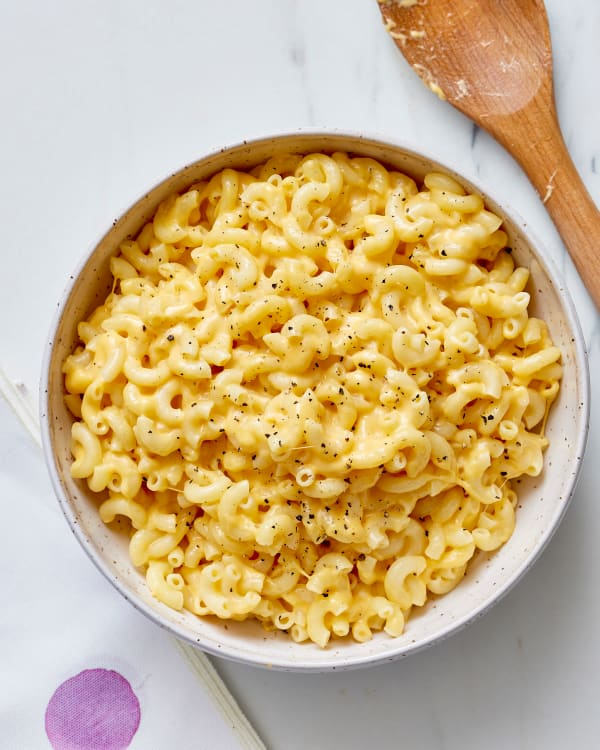MacCheese: (103, 192, 533, 616)
